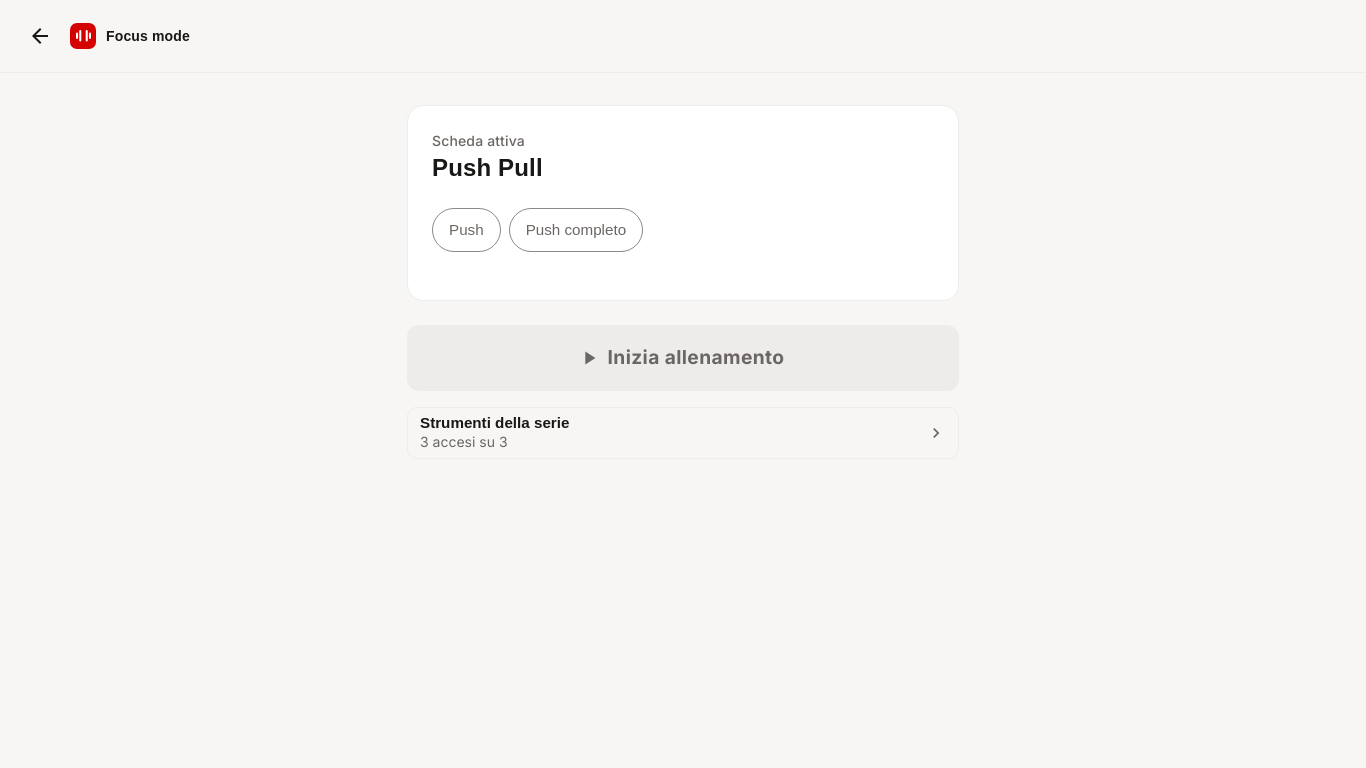
Test: flusso completo e salvataggio › il cronometro dell'allenamento avanza ogni secondo, senza toccare niente
Click the radio button labelled "Push". click: (466, 230)
box: left=432, top=208, right=501, bottom=252
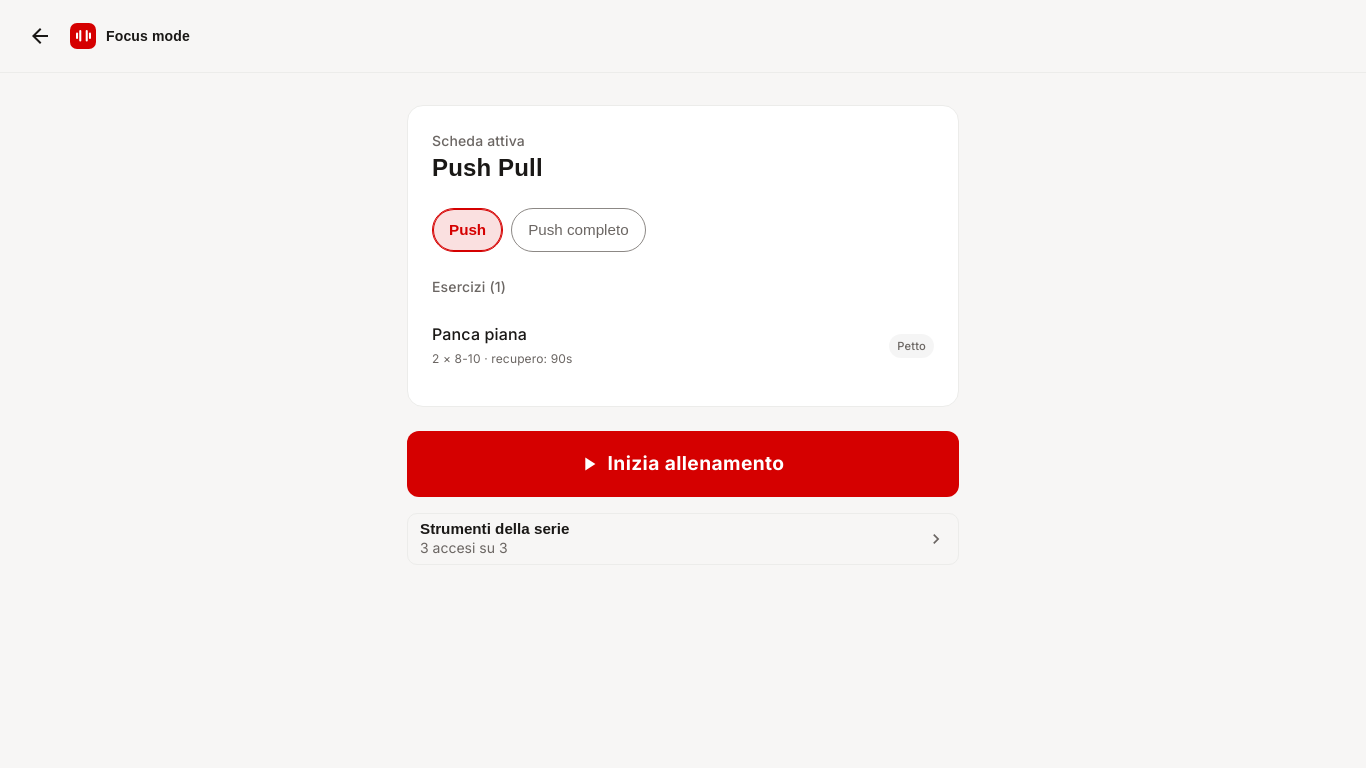
Click the button "Inizia allenamento". click: (683, 464)
box: left=407, top=431, right=959, bottom=497
Wait 65000 ms
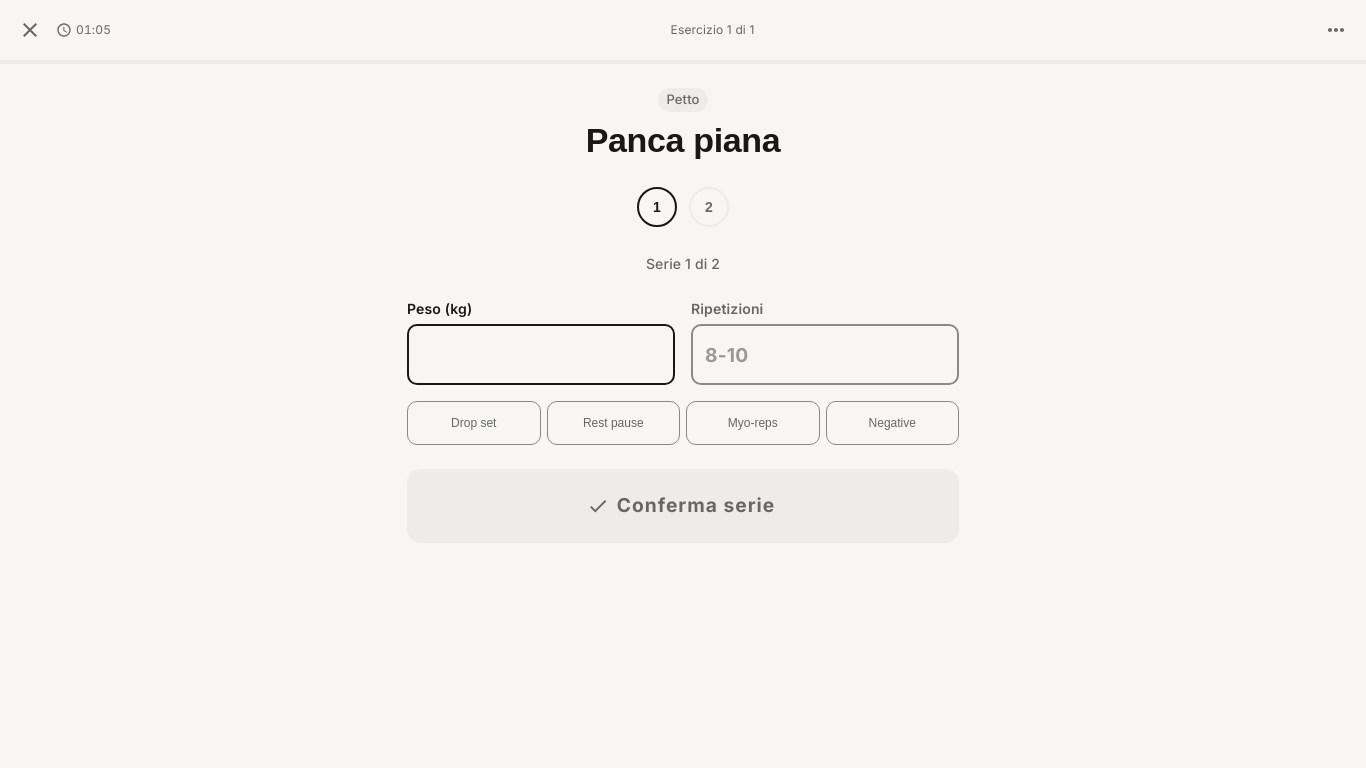
Now the text "01:05" is shown, box left=76, top=20, right=111, bottom=40
